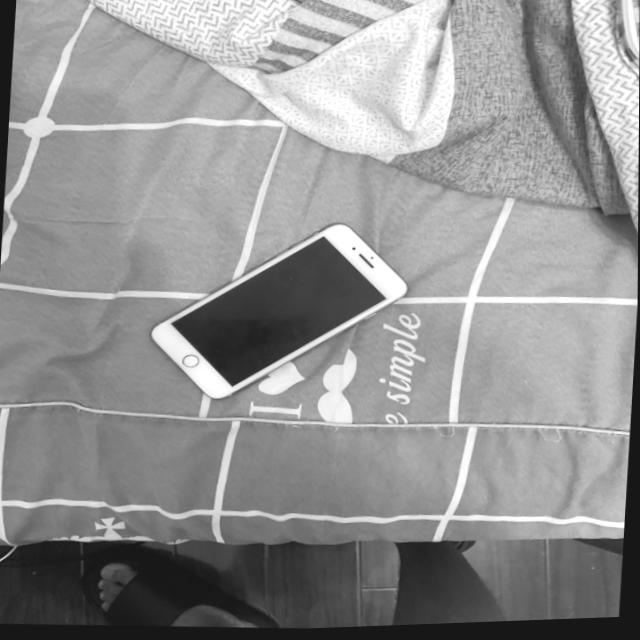Smartphone: (116, 214, 437, 422)
